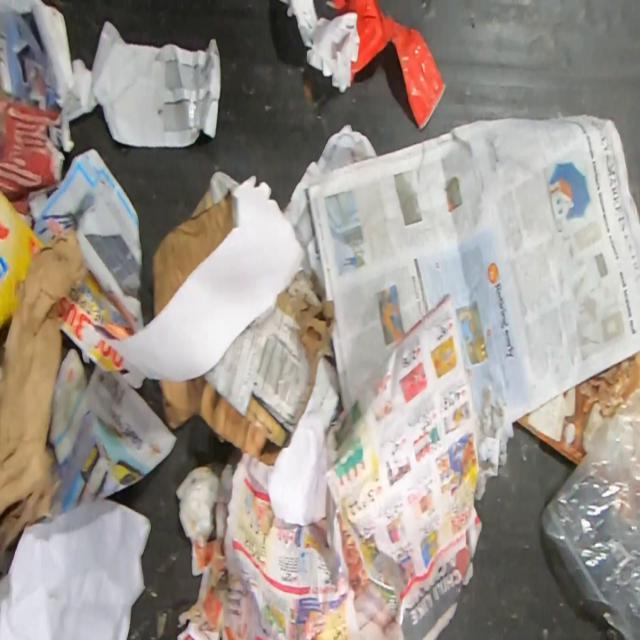cardboard: (82, 176, 306, 390), (155, 264, 338, 467), (515, 348, 640, 465), (151, 171, 241, 320), (0, 186, 48, 332)
rigid_plastic: (329, 0, 448, 132)
soft_plastic: (540, 381, 640, 639)
